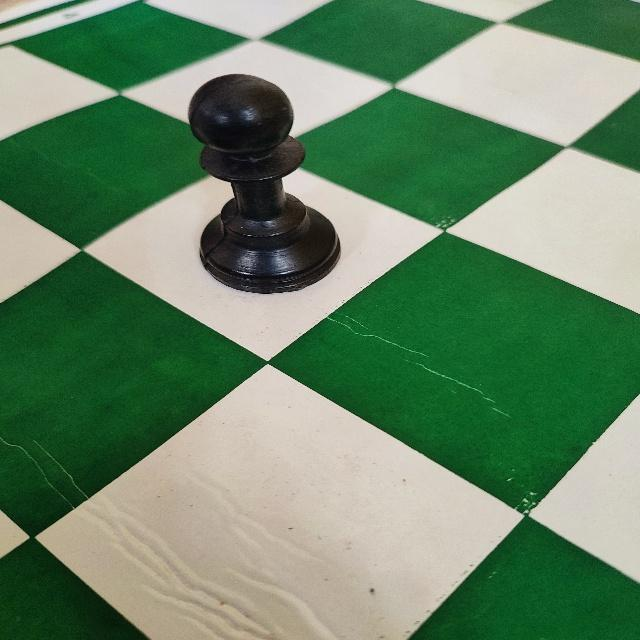Pawn: (185, 72, 344, 297)
